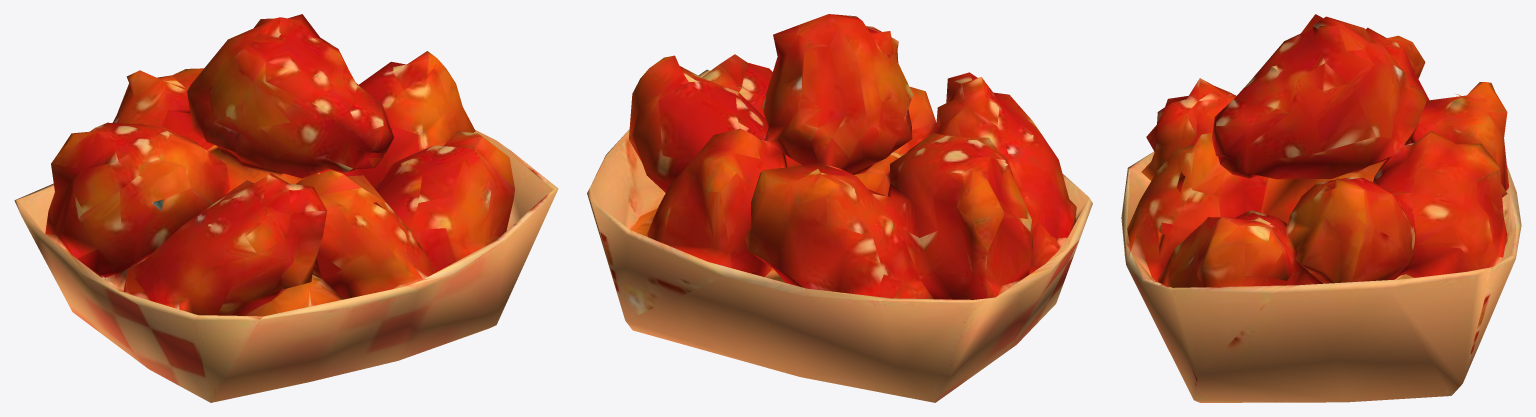
3 views of the same model, side by side, from view 1: azimuth 30°, elevation 25°; view 2: azimuth 150°, elevation 25°; view 3: azimuth 270°, elevation 25° (orthographic). The views are drawn at different scales.
Visible parts, largest first — view 1: yangnyeom-chicken; view 2: yangnyeom-chicken; view 3: yangnyeom-chicken.
Part boxes in pixels (bbox=[...]): yangnyeom-chicken: bbox=[14, 14, 558, 402]; yangnyeom-chicken: bbox=[587, 14, 1092, 402]; yangnyeom-chicken: bbox=[1121, 14, 1521, 402].
Size of the model in its own units: 0.2001 by 0.1401 by 0.1638.
Materials: 1 (1 with a texture image).
